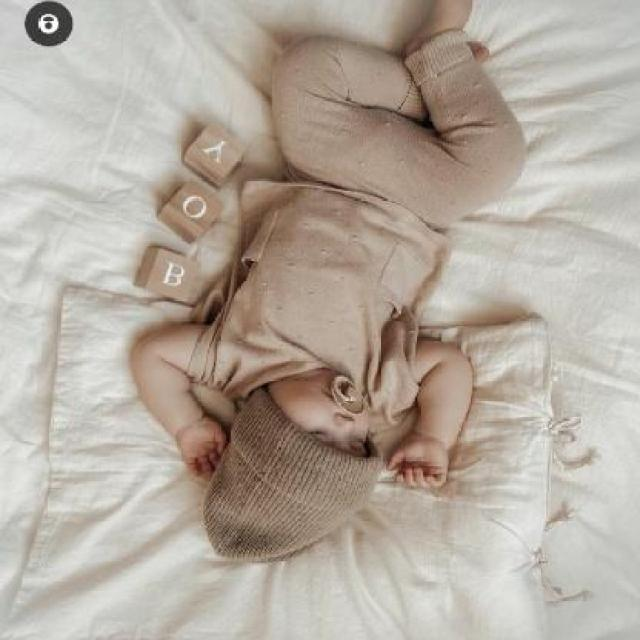baby: (126, 1, 523, 566)
